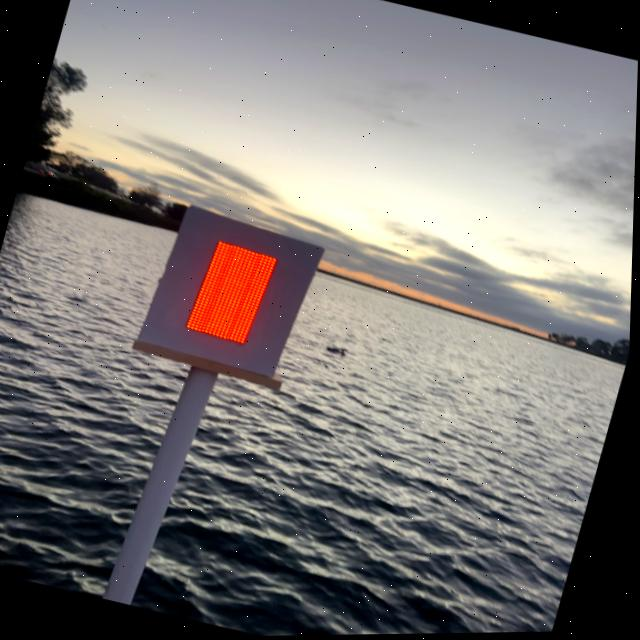led: (162, 214, 299, 368)
